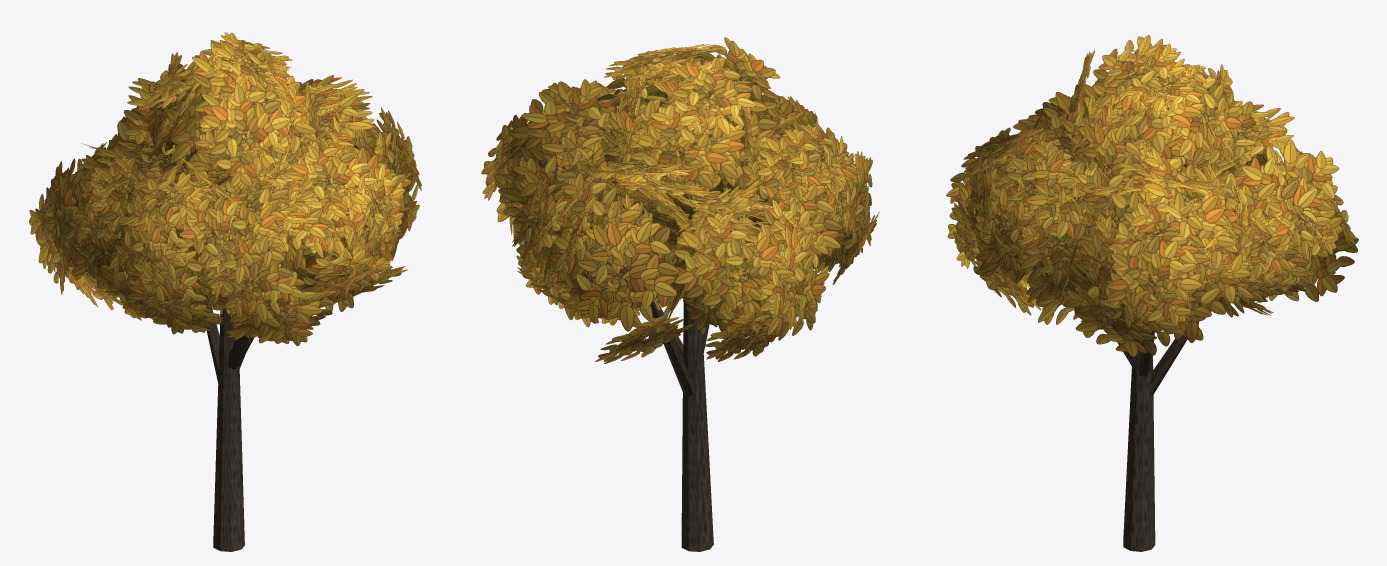
File: acero_autunno.glb
The picture shows the model from 3 angles, left to right: view 1: azimuth 30°, elevation 25°; view 2: azimuth 150°, elevation 25°; view 3: azimuth 270°, elevation 25°; orthographic projection. The views are drawn at different scales.
Parts seen in each view (by area): view 1: acero_autunno; view 2: acero_autunno; view 3: acero_autunno.
Boxes of the visible parts, left/top/right/bottom form: acero_autunno: left=29, top=32, right=421, bottom=551; acero_autunno: left=481, top=37, right=879, bottom=551; acero_autunno: left=946, top=35, right=1358, bottom=551.
Bounding box in the file's own units: 8.54 × 11.36 × 8.91.
2 materials, 2 textured.
